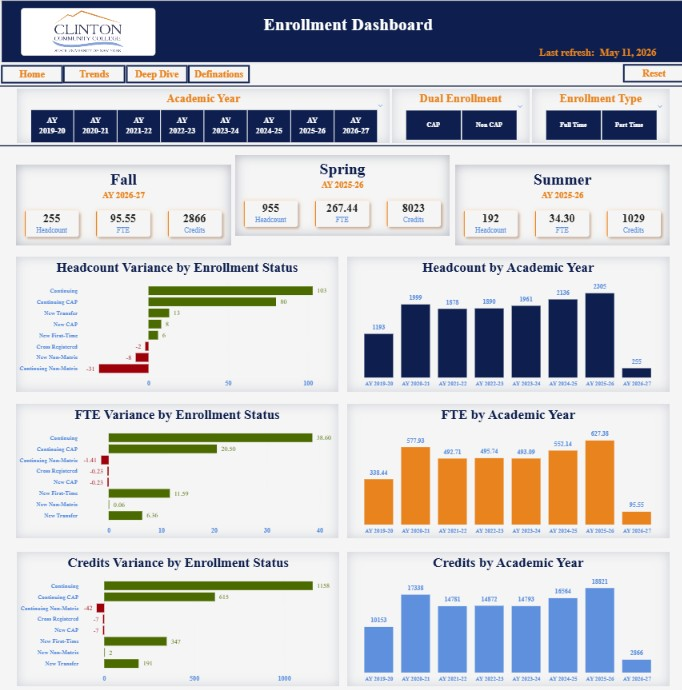

This screenshot's page, from the dashboard's own definition file:
{"tool":"powerbi","page":{"name":"Home","canvas":[1280,1290],"ordinal":0},"visuals":[{"type":"shape","box":[0,0,1280,121],"z":0},{"type":"textbox","box":[486,24,371.6,51],"z":1000},{"type":"textbox","box":[1111.4,84.3,165.3,33.3],"z":2000},{"type":"textbox","box":[990.5,84.3,120.9,33.3],"z":3000},{"type":"actionButton","title":"Home","box":[1.1,122,115.4,34.4],"z":4000},{"type":"actionButton","title":"Home","box":[117,122,116,34],"z":5000},{"type":"actionButton","title":"Home","box":[234,122,115,34],"z":6000},{"type":"actionButton","title":"Home","box":[350,122,115,34],"z":7000},{"type":"actionButton","title":"Home","box":[1160.2,120.9,115.4,34.4],"z":8000},{"type":"cardVisual","title":"Fall","fields":{"Data":["FTE_Forward_Filled.Exec_Fall_Headcount","FTE_Forward_Filled.Exec_Fall_FTE","FTE_Forward_Filled.Exec_Fall_Credits"]},"box":[30,310,400,150],"z":9000},{"type":"cardVisual","title":"Summer","fields":{"Data":["FTE_Forward_Filled.Exec_Summer_Headcount","FTE_Forward_Filled.Exec_Summer_FTE","FTE_Forward_Filled.Exec_Summer_Credits"]},"box":[847,310,400,150],"z":10000},{"type":"cardVisual","title":"Spring","fields":{"Data":["FTE_Forward_Filled.Exec_Spring_Headcount","FTE_Forward_Filled.Exec_Spring_FTE","FTE_Forward_Filled.Exec_Spring_Credits"]},"box":[438,290,400,150],"z":11000},{"type":"clusteredColumnChart","fields":{"Category":["Term_Reference.Academic Year"],"Y":["FTE_Forward_Filled.Dynamic_Headcount"]},"box":[647,480,600,250],"z":12000},{"type":"barChart","title":"Headcount Variance by Enrollment Status","fields":{"Category":["FTE_Forward_Filled.Enrollment_Status"],"Y":["FTE_Forward_Filled.Exec_Waterfall_Variance_Headcount"]},"box":[30,480,600,250],"z":13000},{"type":"image","box":[40,16,250,89],"z":14000},{"type":"barChart","title":"Credits Variance by Enrollment Status","fields":{"Category":["FTE_Forward_Filled.Enrollment_Status"],"Y":["FTE_Forward_Filled.Exec_Waterfall_Variance_Credits"]},"box":[31,1030,600,250],"z":15000},{"type":"barChart","title":"FTE Variance by Enrollment Status","fields":{"Category":["FTE_Forward_Filled.Enrollment_Status"],"Y":["FTE_Forward_Filled.Exec_Waterfall_Variance_FTE"]},"box":[30,754,600,250],"z":16000},{"type":"clusteredColumnChart","title":"Credits by Academic Year","fields":{"Category":["Term_Reference.Academic Year"],"Y":["FTE_Forward_Filled.Dynamic_Credits"]},"box":[647,1030,600,250],"z":17000},{"type":"clusteredColumnChart","title":"FTE by Academic Year","fields":{"Category":["Term_Reference.Academic Year"],"Y":["FTE_Forward_Filled.Dynamic_FTE"]},"box":[647,754,600,250],"z":18000},{"type":"shape","box":[0,155.3,1280.2,15.3],"z":19000},{"type":"slicer","title":"Academic Year ","fields":{"Values":["Term_Reference.Academic Year"]},"box":[31,168,694,101],"z":20000},{"type":"shape","box":[0,267,1280,14],"z":21000},{"type":"slicer","title":"Enrollment Type","fields":{"Values":["FTE_Forward_Filled.Type"]},"box":[991,168,256,101],"z":22000},{"type":"slicer","title":"Dual Enrollment","fields":{"Values":["FTE_Forward_Filled.CAP_Status_Type"]},"box":[730,168,256,101],"z":23000}]}

Visuals, with their boxes in screenshot pixels (x1, y1, x2, y2), scaled from the page's 1280x1290 canvas onto the 682x690 screenshot:
shape: [0, 0, 681, 65]
textbox: [259, 13, 457, 40]
textbox: [592, 45, 680, 63]
textbox: [528, 45, 592, 63]
"Home" actionButton: [1, 65, 62, 84]
"Home" actionButton: [62, 65, 124, 83]
"Home" actionButton: [125, 65, 186, 83]
"Home" actionButton: [186, 65, 248, 83]
"Home" actionButton: [618, 65, 680, 83]
"Fall" cardVisual: [16, 166, 229, 246]
"Summer" cardVisual: [451, 166, 664, 246]
"Spring" cardVisual: [233, 155, 446, 235]
clusteredColumnChart - Term_Reference.Academic Year x FTE_Forward_Filled.Dynamic_Headcount: [345, 257, 664, 390]
"Headcount Variance by Enrollment Status" barChart: [16, 257, 336, 390]
image: [21, 9, 155, 56]
"Credits Variance by Enrollment Status" barChart: [17, 551, 336, 685]
"FTE Variance by Enrollment Status" barChart: [16, 403, 336, 537]
"Credits by Academic Year" clusteredColumnChart: [345, 551, 664, 685]
"FTE by Academic Year" clusteredColumnChart: [345, 403, 664, 537]
shape: [0, 83, 681, 91]
"Academic Year " slicer: [17, 90, 386, 144]
shape: [0, 143, 681, 150]
"Enrollment Type" slicer: [528, 90, 664, 144]
"Dual Enrollment" slicer: [389, 90, 525, 144]
